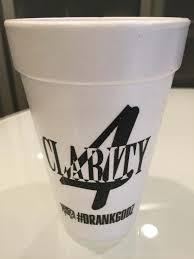Plastic cup: (4, 9, 194, 259)
